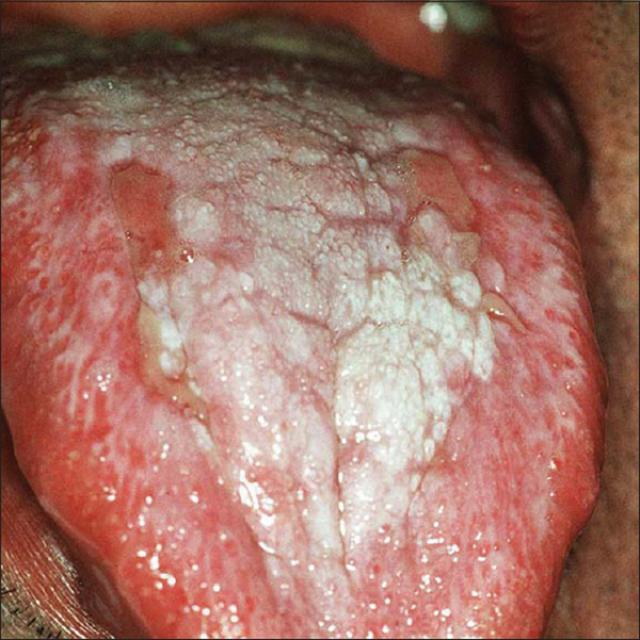leukoplakia-like-detection: (1, 58, 586, 639)
processing_area: (1, 55, 601, 639)
